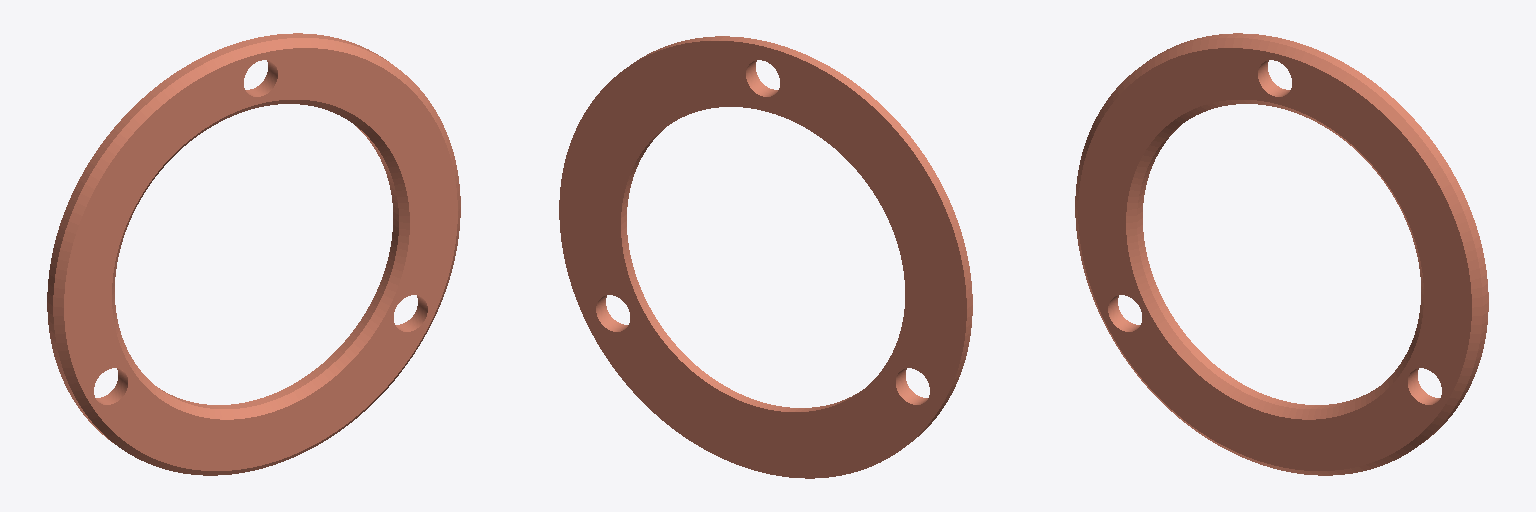
File: Carrier.obj
3 views of the same model, side by side, from view 1: azimuth 30°, elevation 25°; view 2: azimuth 150°, elevation 25°; view 3: azimuth 330°, elevation 25° (orthographic).
Parts seen in each view (by area): view 1: mesh1, mesh8, mesh4, mesh7, mesh5; view 2: mesh6, mesh7, mesh5; view 3: mesh1, mesh8, mesh4, mesh7, mesh5.
Part boxes in pixels (bbox=[...]): mesh1: bbox=[64, 48, 457, 470]; mesh8: bbox=[53, 38, 460, 475]; mesh4: bbox=[112, 100, 409, 419]; mesh7: bbox=[47, 33, 388, 442]; mesh5: bbox=[159, 126, 398, 408]; mesh6: bbox=[559, 41, 966, 478]; mesh7: bbox=[631, 36, 972, 444]; mesh5: bbox=[621, 128, 860, 411]; mesh1: bbox=[1078, 48, 1471, 470]; mesh8: bbox=[1075, 38, 1482, 475]; mesh4: bbox=[1126, 100, 1423, 419]; mesh7: bbox=[1147, 33, 1488, 442]; mesh5: bbox=[1137, 126, 1376, 408].
Size of the model in its own units: 0.0595 by 0.0595 by 0.0025.